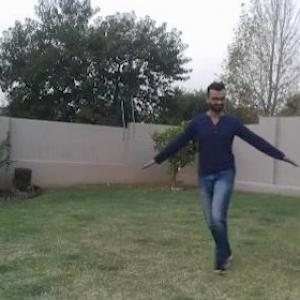land: (142, 92, 294, 260)
